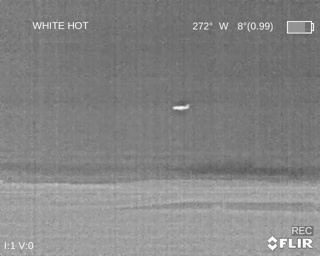AIRPLANE: (171, 103, 190, 111)
